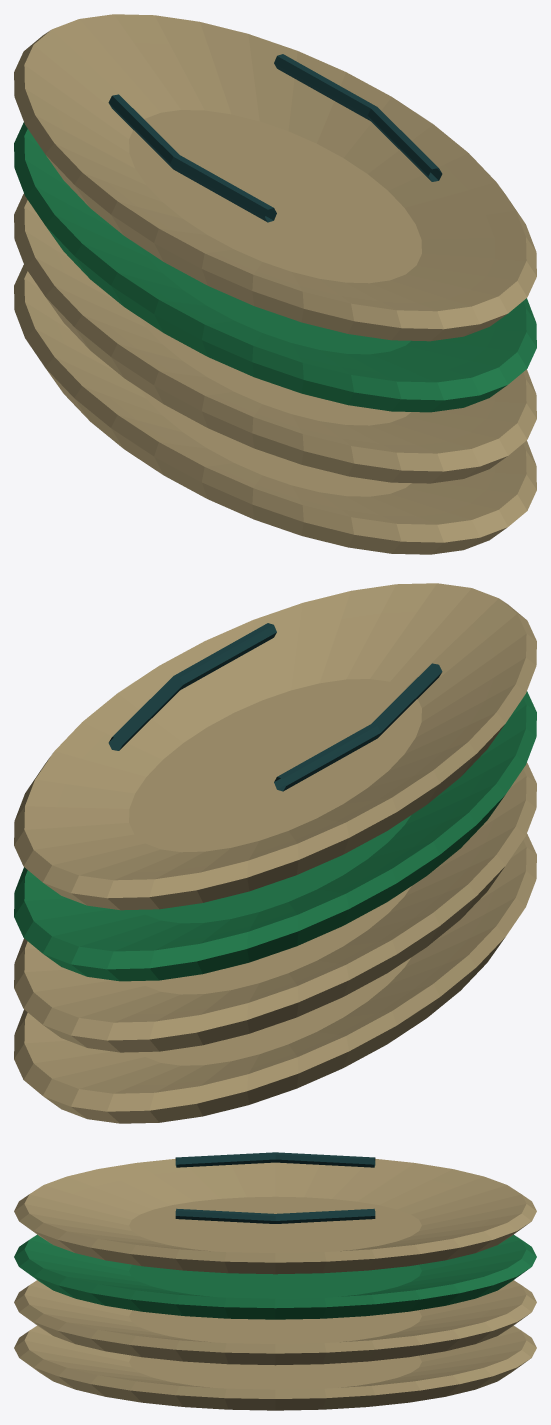
Rendered from panel_r5_restaurant_dish_tower.fbx.
The picture shows the model from 3 angles, top to bottom: view 1: azimuth 30°, elevation 25°; view 2: azimuth 150°, elevation 25°; view 3: azimuth 270°, elevation 25°; orthographic projection. The views are drawn at different scales.
Parts seen in each view (by area): view 1: Part_0; view 2: Part_0; view 3: Part_0.
Boxes of the visible parts, x1=… form: Part_0: x1=14, y1=14, x2=536, y2=554; Part_0: x1=14, y1=583, x2=536, y2=1123; Part_0: x1=14, y1=1152, x2=536, y2=1410.
Size of the model in its own units: 1.3 by 1.1 by 2.8.
